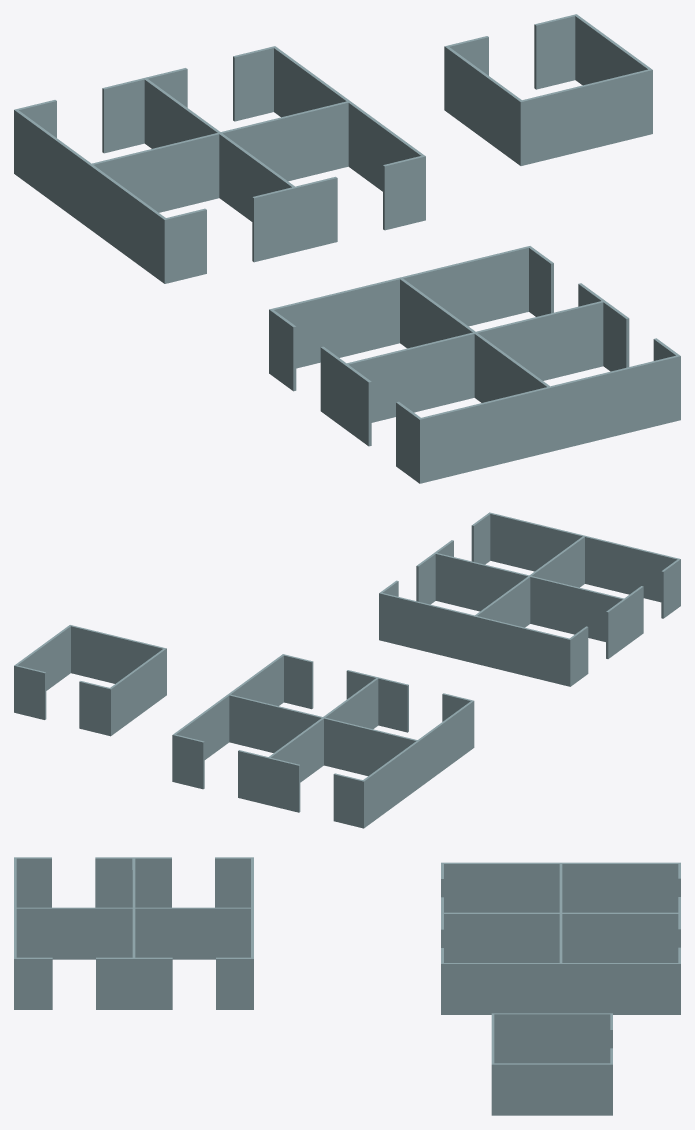
The model's file is kubr.fbx.
3 renders of one model, top to bottom at view 1: azimuth 30°, elevation 25°; view 2: azimuth 150°, elevation 25°; view 3: azimuth 270°, elevation 25°, orthographic. The views are drawn at different scales.
Parts seen in each view (by area): view 1: kubr; view 2: kubr; view 3: kubr.
Boxes of the visible parts, bbox=[...] form: kubr: bbox=[14, 14, 680, 483]; kubr: bbox=[14, 512, 680, 828]; kubr: bbox=[14, 857, 680, 1115].
Size of the model in its own units: 1307 by 150 by 1779.
